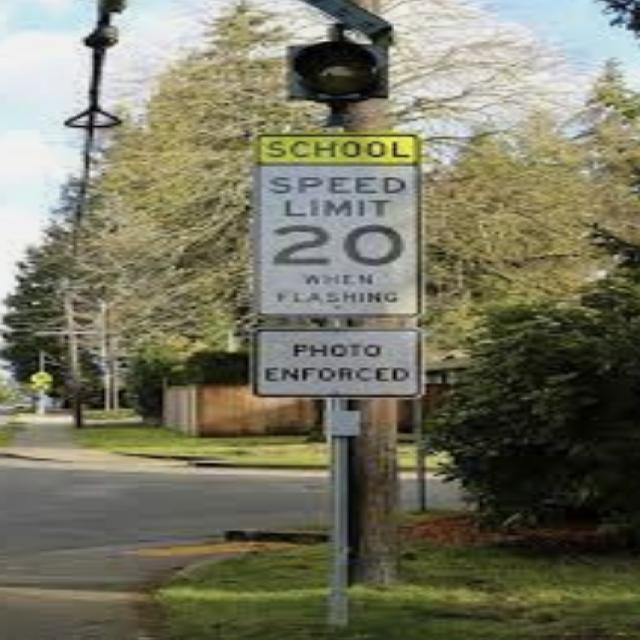speedLimit20: (265, 167, 413, 278)
